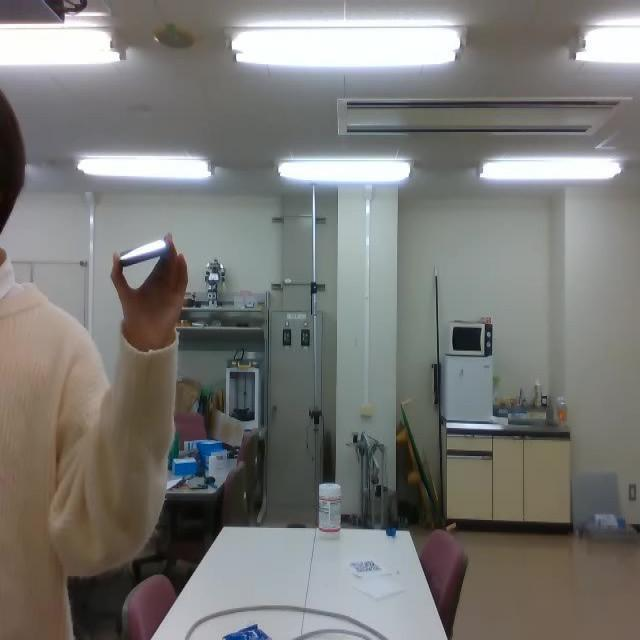Phone: (115, 238, 167, 268)
